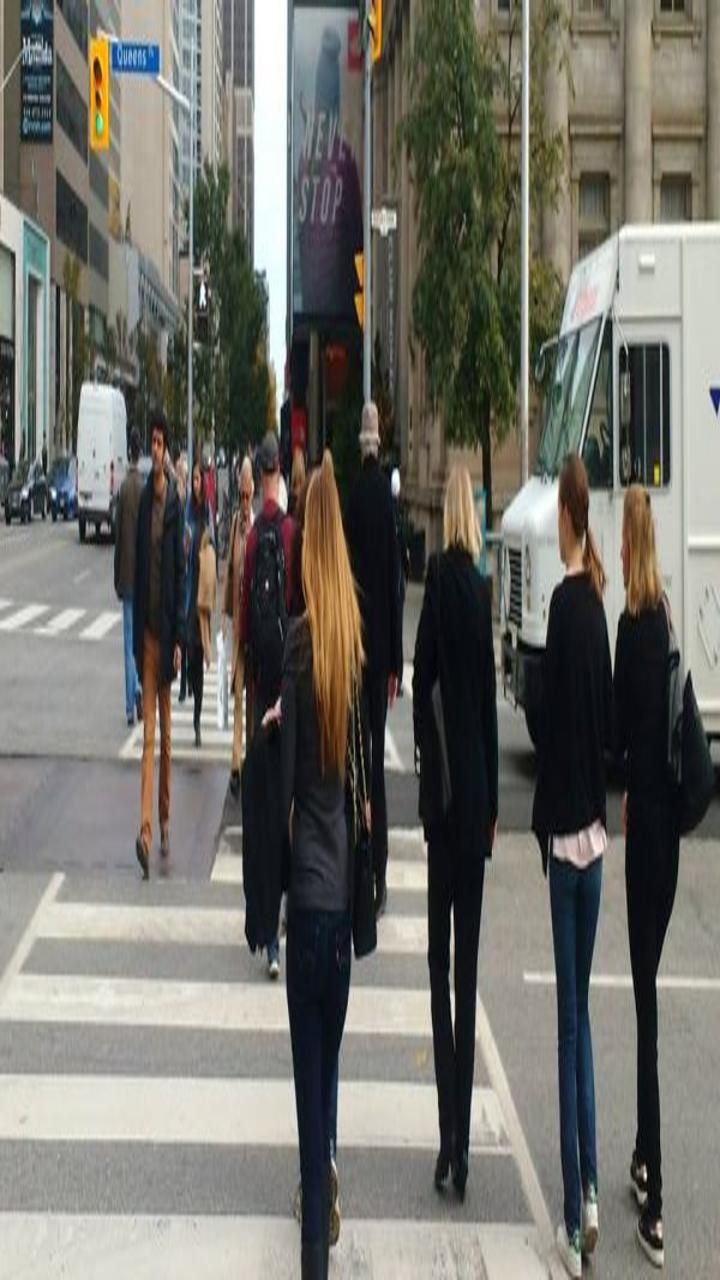pedestrian: (245, 459, 380, 1280), (493, 440, 611, 1275), (588, 445, 706, 1280), (387, 440, 514, 1199), (104, 411, 207, 903)
